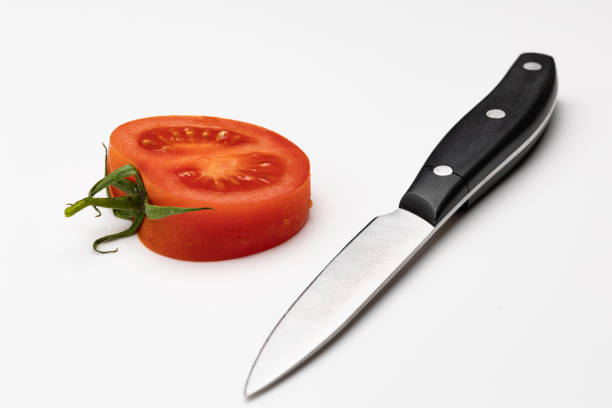knife: (241, 50, 561, 403)
